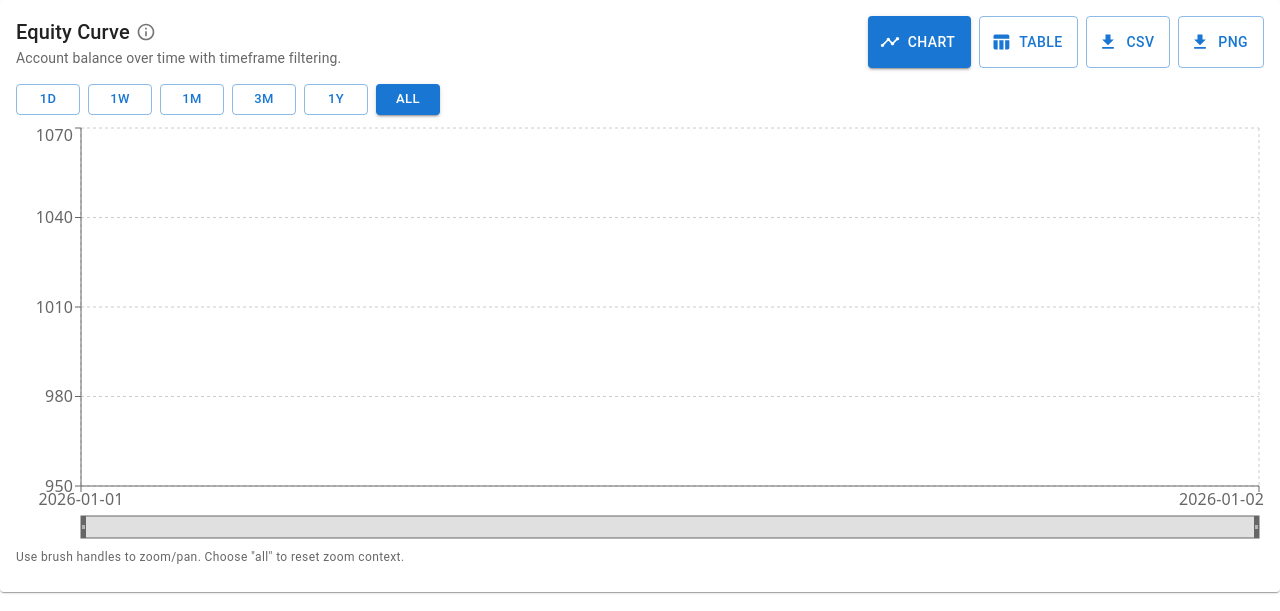
chart components › renders equity curve with timeframe controls
Expected: the heading "Equity Curve" is shown, [16,16,130,48]
Expected: the button "1d" is shown, [16,84,80,115]
Click the button "Table".
click(1029, 42)  # box [979,16,1078,68]
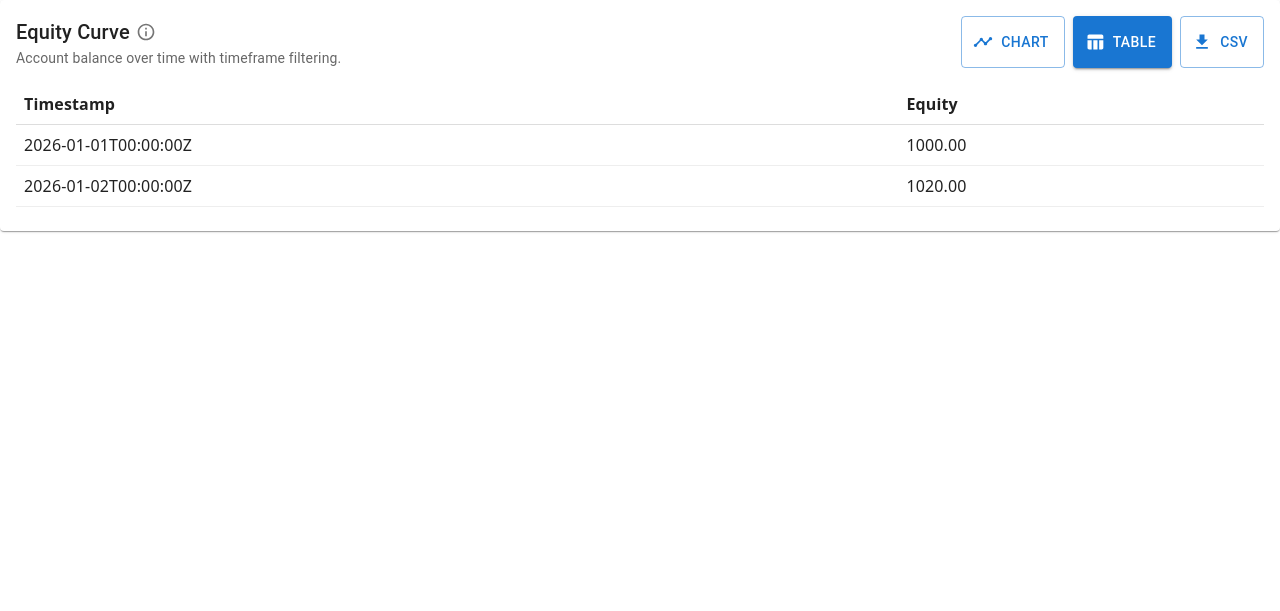
Result: the column heading "Timestamp" is shown at [16,84,898,124]
